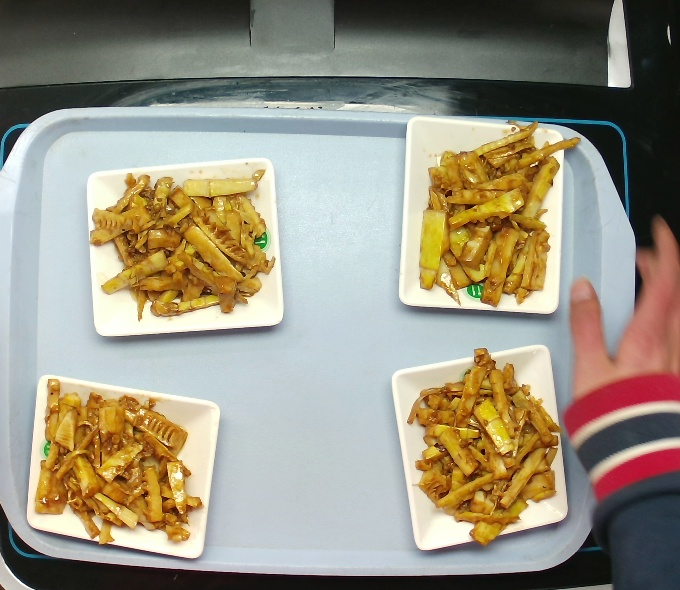wcq-QingChaoChunSun: (403, 335, 564, 558), (406, 117, 578, 315), (81, 156, 278, 325), (30, 382, 198, 547)
